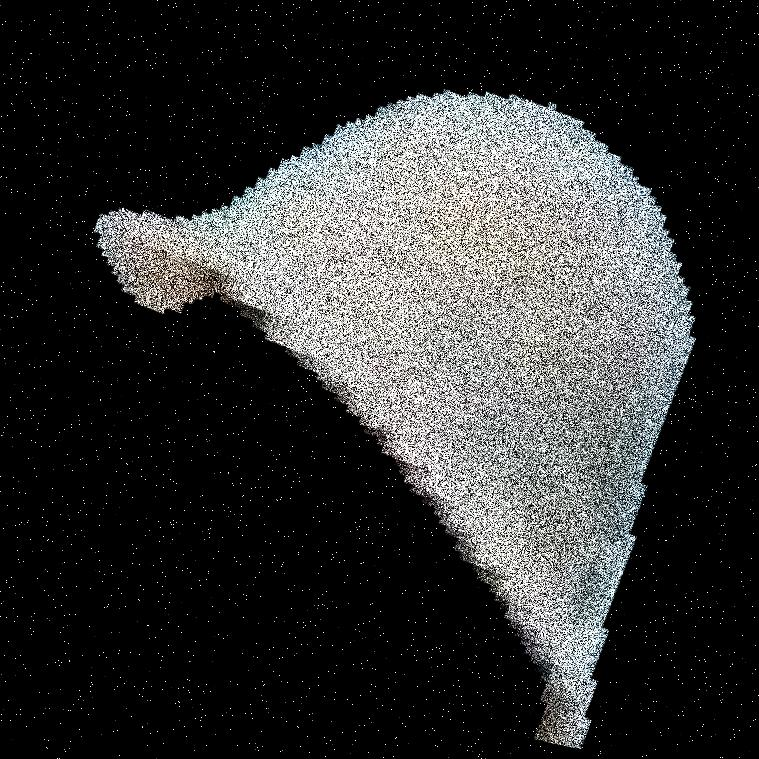Capacete: (434, 0, 758, 758)
